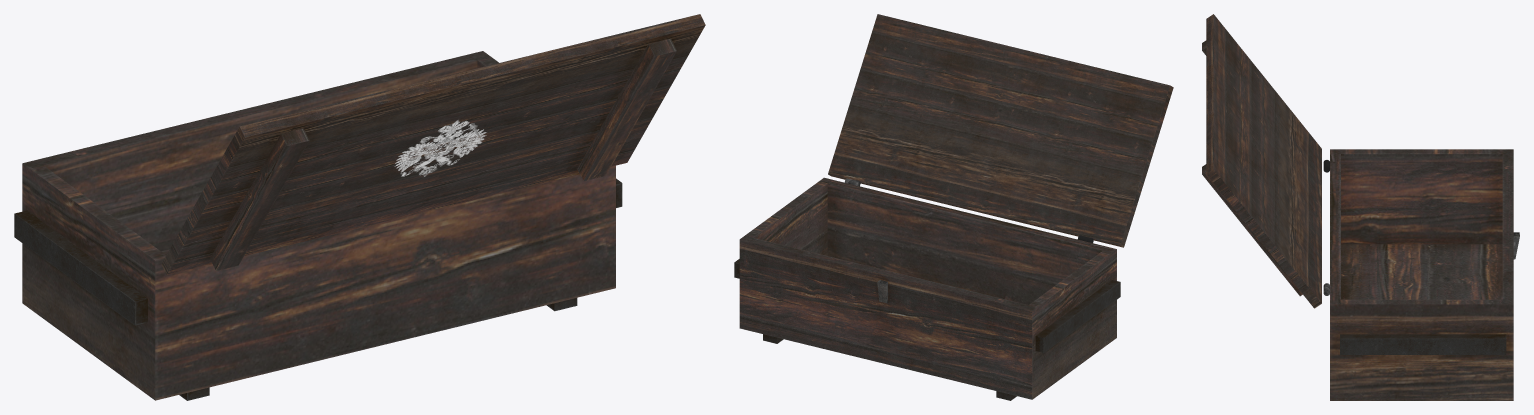
The model's file is wooden_box.glb.
3 renders of one model, left to right at view 1: azimuth 30°, elevation 25°; view 2: azimuth 150°, elevation 25°; view 3: azimuth 270°, elevation 25°, orthographic. The views are drawn at different scales.
Parts seen in each view (by area): view 1: WOOD_DOWN_1, WOOD_UP_1_01 - Default_0, WOOD_DOWN_3, WOOD_UP_3_02 - Default_0, WOOD_UP_2_02 - Default_0; view 2: WOOD_DOWN_1, WOOD_UP_1_01 - Default_0, WOOD_DOWN_3; view 3: WOOD_DOWN_1, WOOD_UP_1_01 - Default_0, 2_22 - Default_0, WOOD_UP_3_02 - Default_0.
Boxes of the visible parts, x1,y1,x2,y2 form: WOOD_DOWN_1: [22, 51, 615, 400]; WOOD_UP_1_01 - Default_0: [161, 14, 705, 274]; WOOD_DOWN_3: [14, 210, 147, 325]; WOOD_UP_3_02 - Default_0: [577, 38, 676, 181]; WOOD_UP_2_02 - Default_0: [210, 128, 309, 270]; WOOD_DOWN_1: [739, 177, 1116, 399]; WOOD_UP_1_01 - Default_0: [828, 14, 1173, 247]; WOOD_DOWN_3: [1035, 280, 1120, 352]; WOOD_DOWN_1: [1330, 149, 1513, 400]; WOOD_UP_1_01 - Default_0: [1206, 14, 1321, 308]; 2_22 - Default_0: [1340, 334, 1506, 354]; WOOD_UP_3_02 - Default_0: [1202, 164, 1302, 296].
Size of the model in its own units: 106 by 72.78 by 86.58.
Materials: 5 (5 with a texture image).
